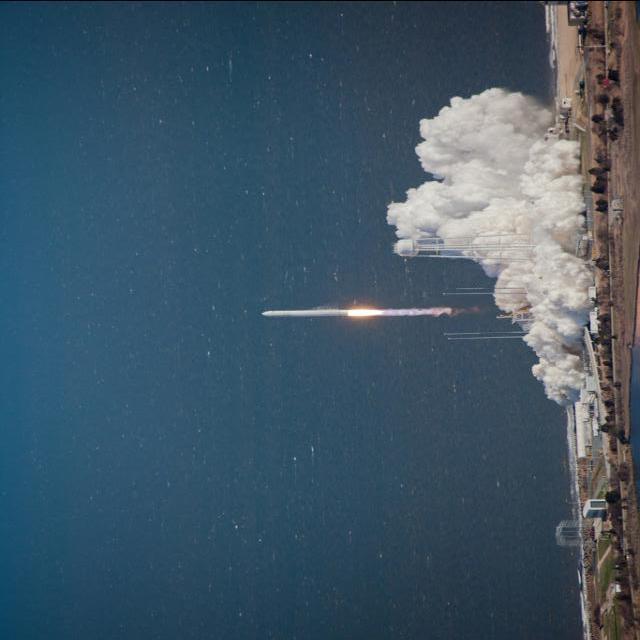Missile: (260, 306, 354, 319)
